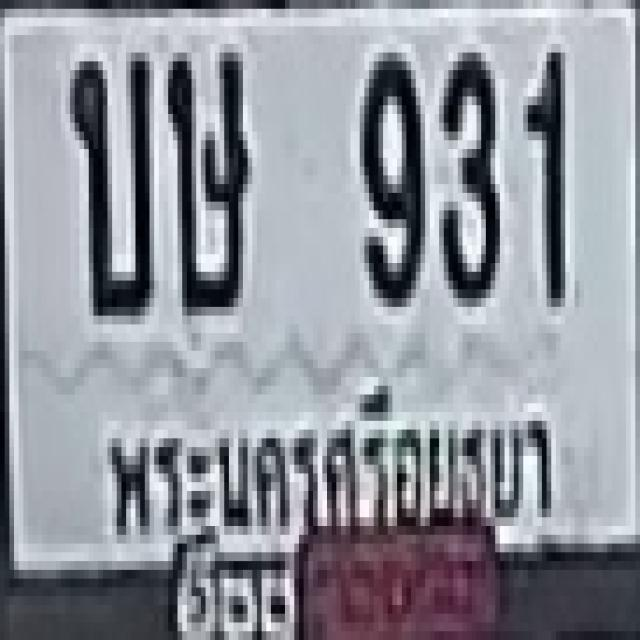-: (66, 44, 150, 316), (163, 44, 243, 307)
1: (523, 44, 561, 298)
3: (439, 44, 495, 298)
9: (360, 44, 420, 298)
AYA: (85, 356, 564, 556)
